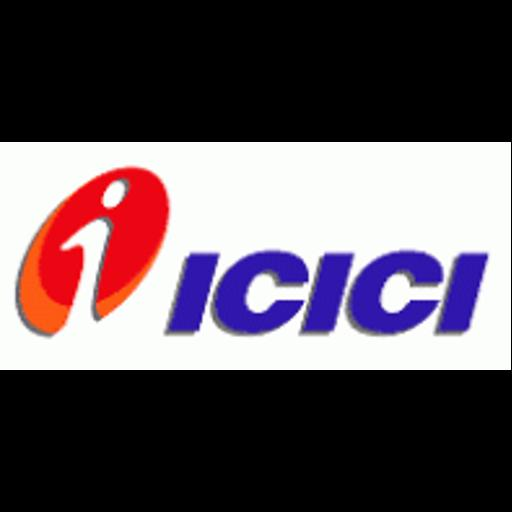ICICI Bank Limited: (0, 142, 511, 370)
